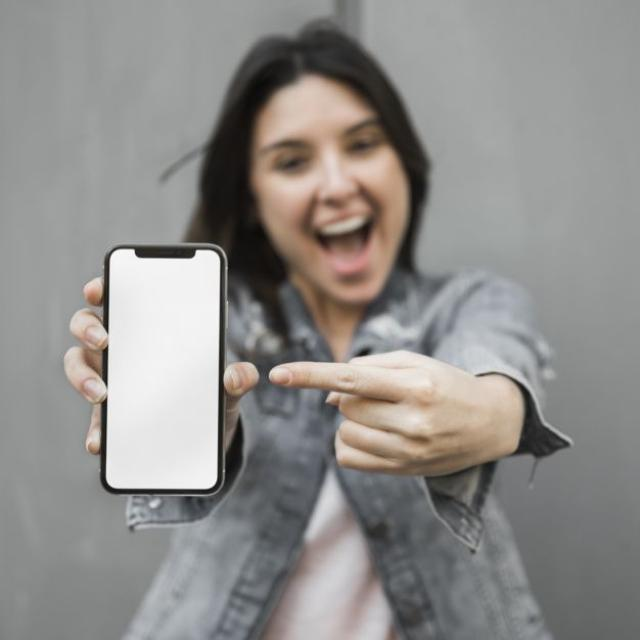mobile: (72, 238, 254, 556)
person: (172, 0, 620, 640)
